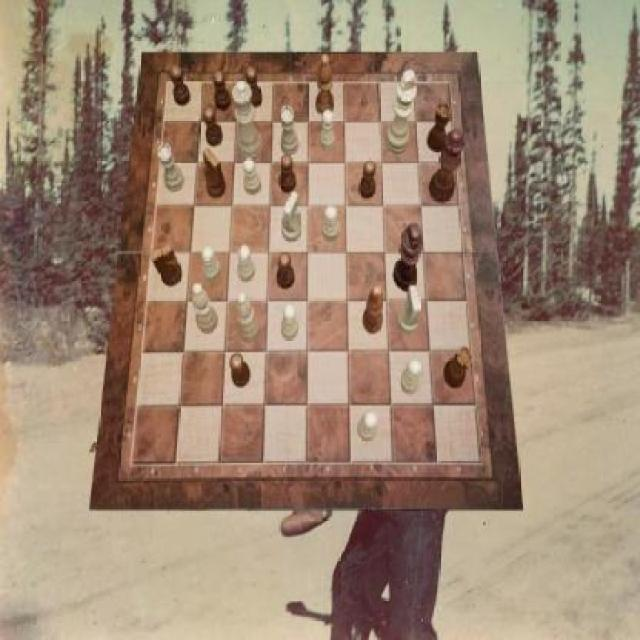bishop: (316, 54, 334, 115), (363, 284, 384, 336)
black-bishop: (392, 223, 422, 292)
black-king: (151, 243, 183, 287), (203, 148, 226, 198)
black-knight: (170, 66, 192, 106), (212, 71, 232, 112), (203, 108, 223, 148), (230, 352, 252, 387), (277, 252, 295, 290), (359, 160, 376, 200), (246, 68, 262, 109), (279, 154, 296, 192)
black-pawn: (429, 129, 466, 203)
black-queen: (445, 346, 472, 389), (428, 101, 450, 152)
black-rook: (192, 283, 218, 332), (236, 292, 260, 345)
white-bishop: (385, 70, 417, 154)
white-king: (397, 286, 421, 334), (282, 190, 302, 242)
white-knight: (400, 358, 422, 394), (202, 246, 222, 282), (318, 109, 334, 152), (243, 159, 261, 196), (357, 411, 378, 442), (237, 246, 255, 282), (282, 303, 299, 341), (322, 206, 339, 241)
white-pawn: (232, 80, 263, 160)
white-queen: (157, 145, 184, 192), (280, 106, 299, 156)
